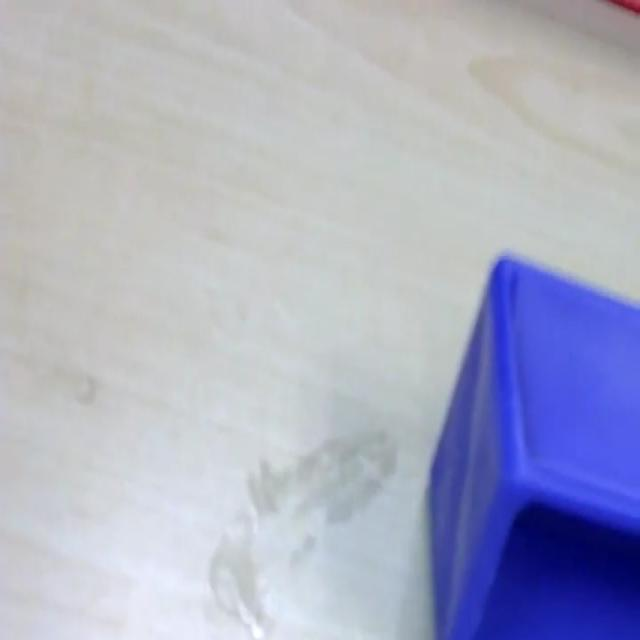blue_block: (426, 250, 638, 638)
